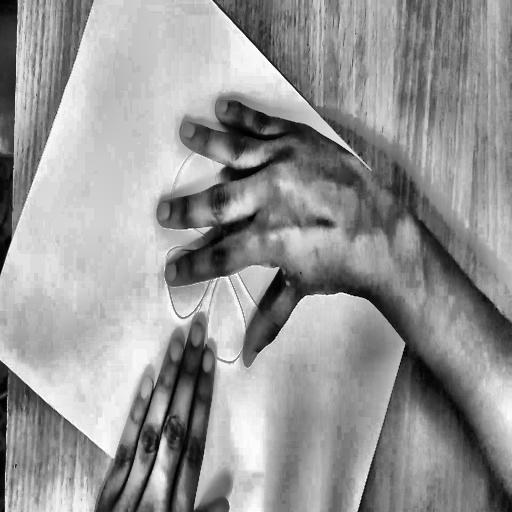flower: (83, 88, 347, 509)
top_right: (422, 240, 431, 254)
